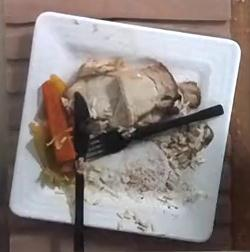peppers: (29, 74, 75, 179)
pork: (97, 58, 201, 133)
